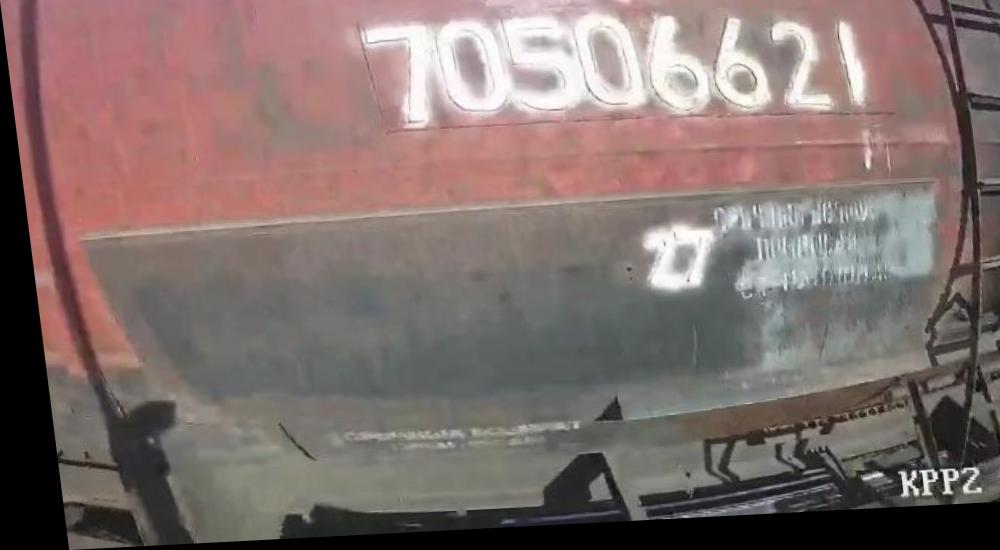Wagon-number: (356, 9, 874, 139)
